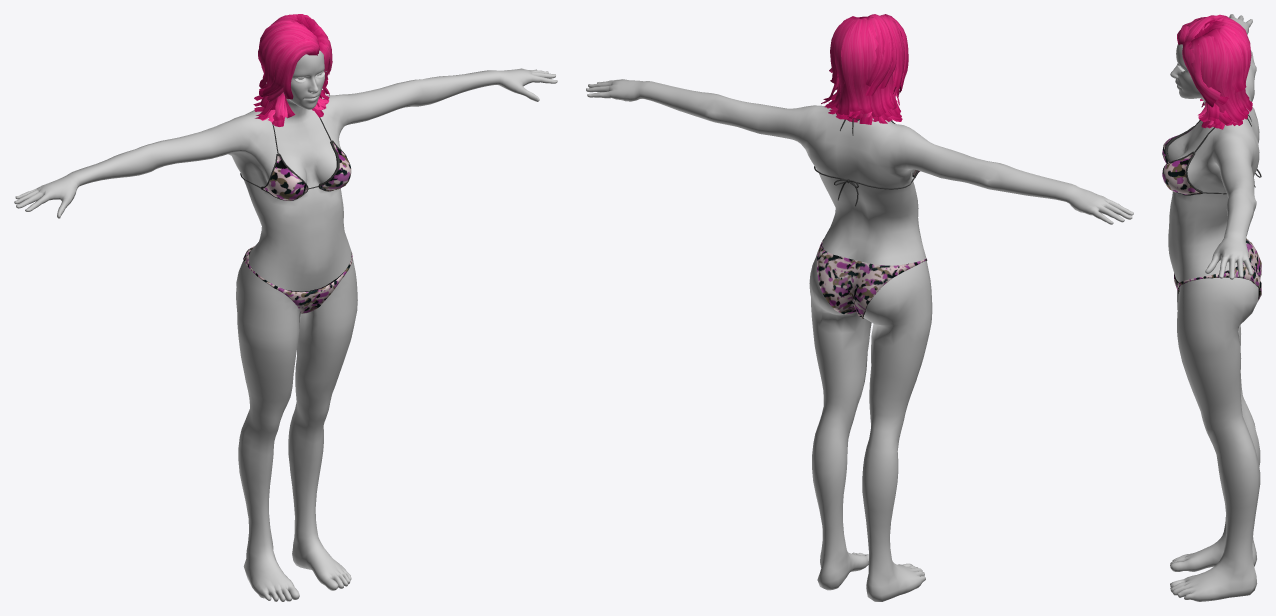
The model's file is forth_clothes_hair.obj.
The picture shows the model from 3 angles, left to right: view 1: azimuth 30°, elevation 25°; view 2: azimuth 150°, elevation 25°; view 3: azimuth 270°, elevation 25°; orthographic projection.
Parts seen in each view (by area): view 1: Body, Hair, Tops, Bottoms; view 2: Body, Hair, Bottoms; view 3: Body, Hair, Tops, Bottoms.
Part boxes in pixels (bbox=[...]): Body: bbox=[14, 50, 557, 601]; Hair: bbox=[253, 14, 332, 126]; Tops: bbox=[240, 117, 351, 200]; Bottoms: bbox=[243, 245, 352, 313]; Body: bbox=[586, 79, 1133, 601]; Hair: bbox=[821, 14, 908, 124]; Bottoms: bbox=[817, 239, 927, 318]; Body: bbox=[1167, 14, 1260, 601]; Hair: bbox=[1177, 14, 1252, 129]; Tops: bbox=[1162, 114, 1261, 195]; Bottoms: bbox=[1174, 238, 1261, 300].
Bounding box in the file's own units: 17.95 × 17.91 × 2.87.
